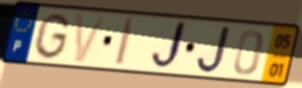0: (231, 28, 266, 77)
G: (32, 12, 73, 61)
I: (112, 16, 138, 69)
J: (148, 19, 189, 73), (194, 24, 234, 75)
V: (73, 12, 109, 65)
